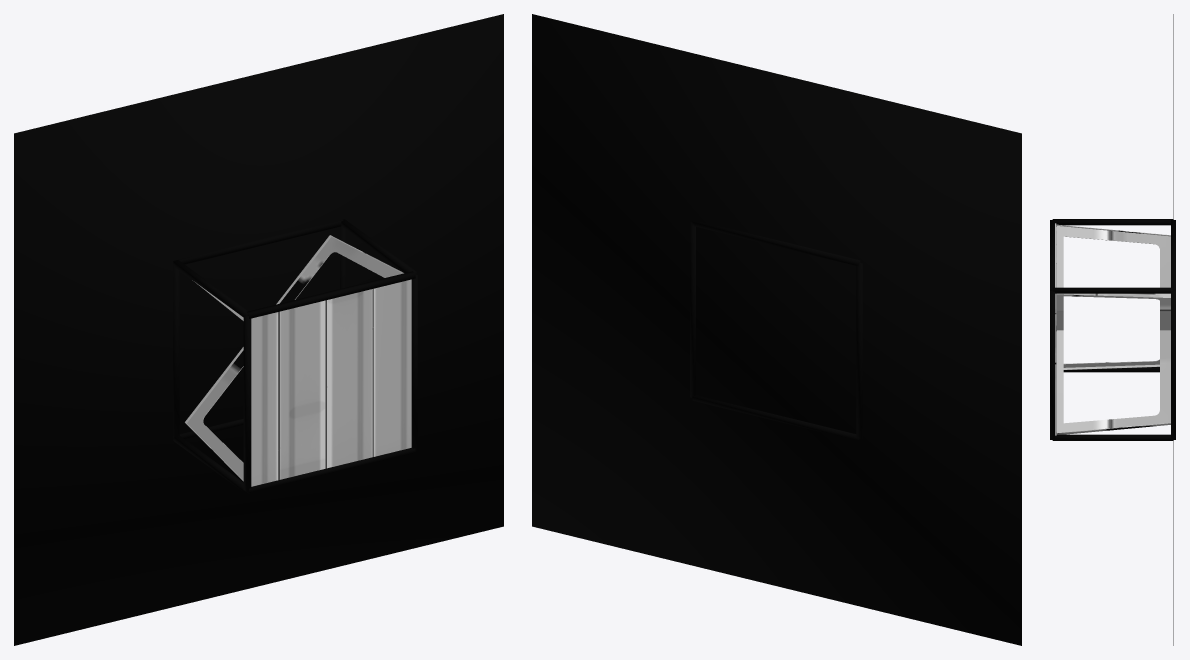
The picture shows the model from 3 angles, left to right: view 1: azimuth 30°, elevation 25°; view 2: azimuth 150°, elevation 25°; view 3: azimuth 270°, elevation 25°; orthographic projection. The views are drawn at different scales.
Bounding box in the file's own units: 2 × 2 × 0.5286.
